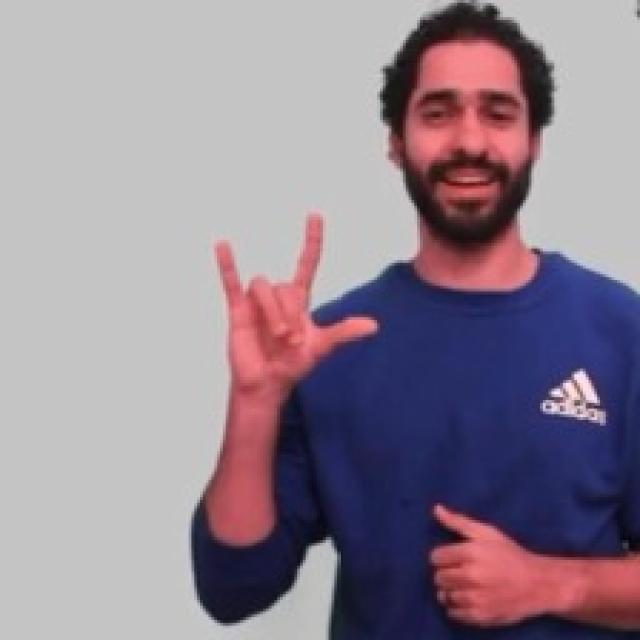love: (210, 203, 384, 389)
